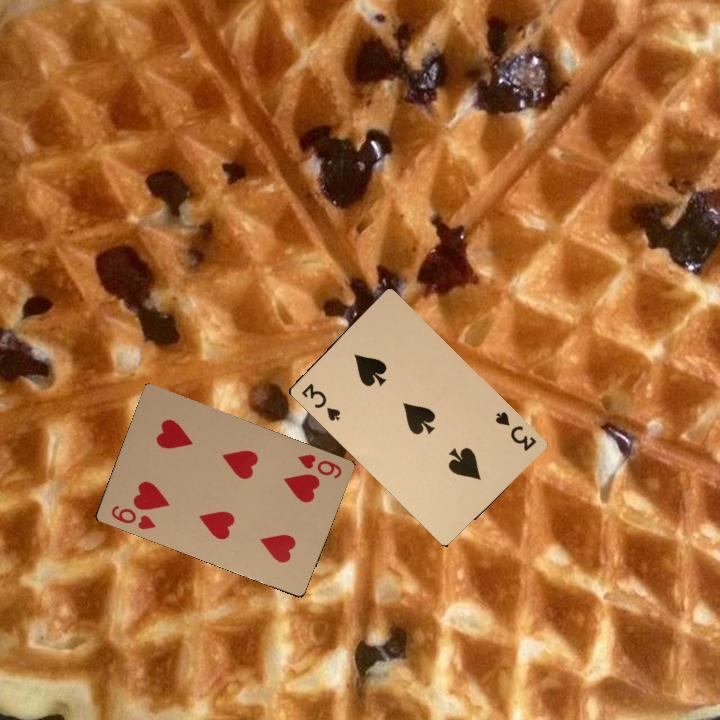3s: (491, 407, 539, 454), (297, 379, 343, 424)
6h: (107, 501, 157, 532), (294, 450, 344, 481)
